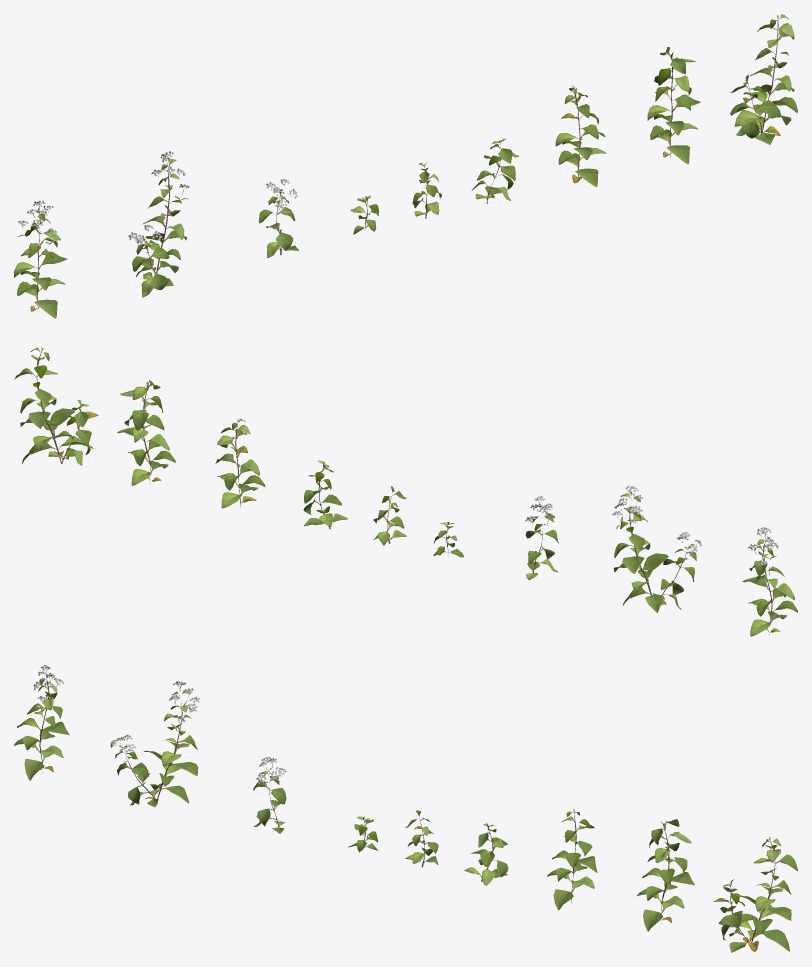
The model's file is shrub_01.glb.
The picture shows the model from 3 angles, top to bottom: view 1: azimuth 30°, elevation 25°; view 2: azimuth 150°, elevation 25°; view 3: azimuth 330°, elevation 25°; orthographic projection. The views are drawn at different scales.
Bounding box in the file's own units: 2.59 × 0.396 × 0.2186.
1 material, 1 textured.
